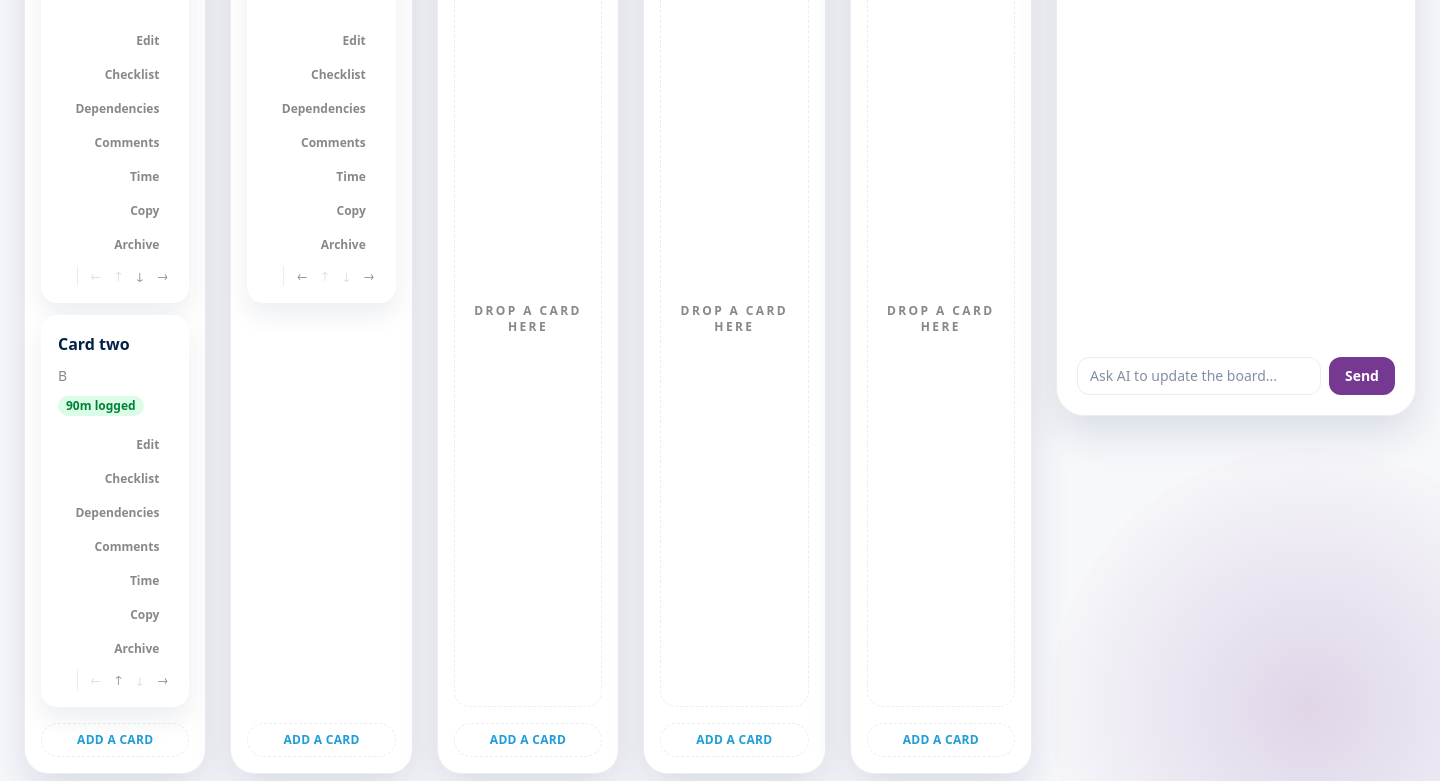
Scenario: KanbanBoard › shows error when chat request fails
The image size is (1440, 781).
(page scrolled)
Type "help" into the field named "AI chat message" at (1199, 376), box [1077,357,1321,395]
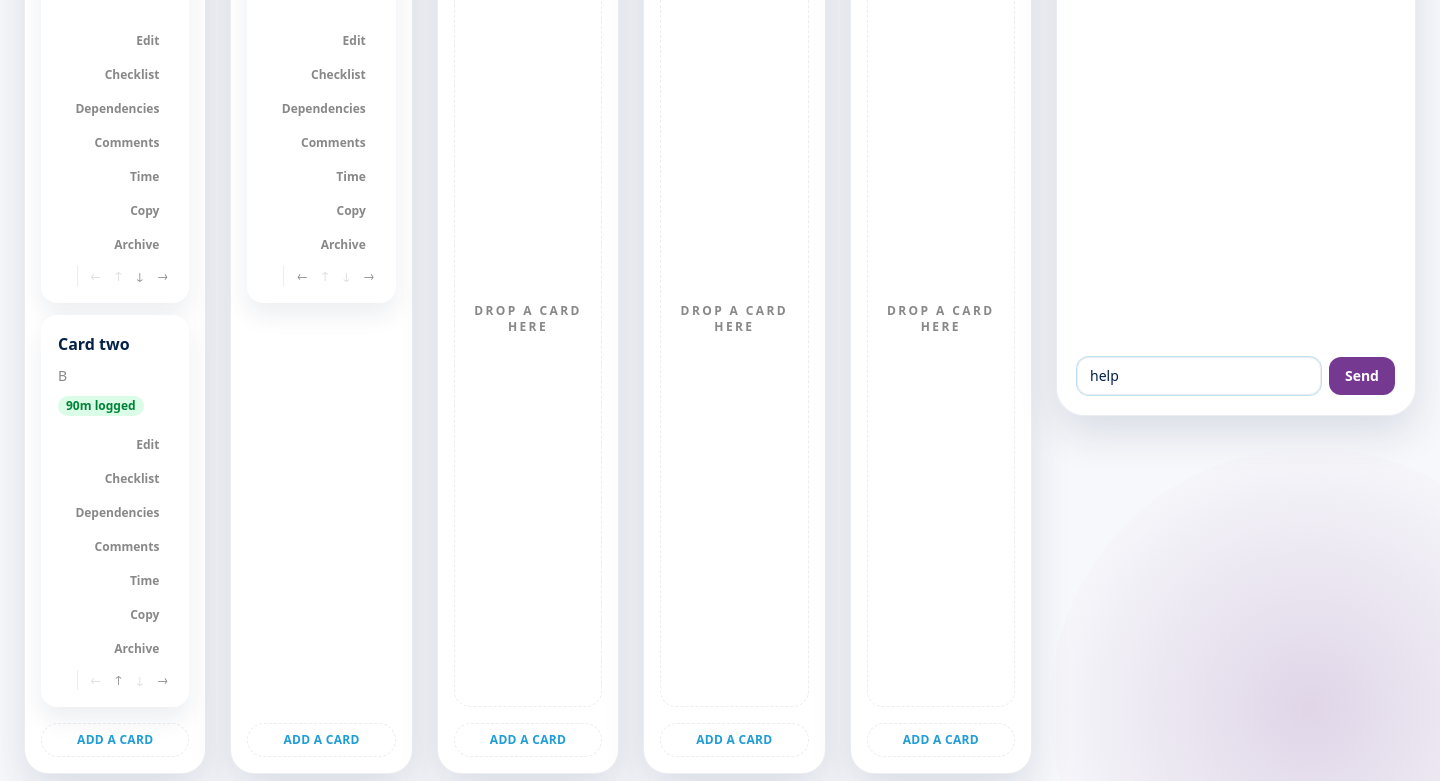
Click the button "Send" at (1362, 376), box [1329,357,1395,395]
(page scrolled)
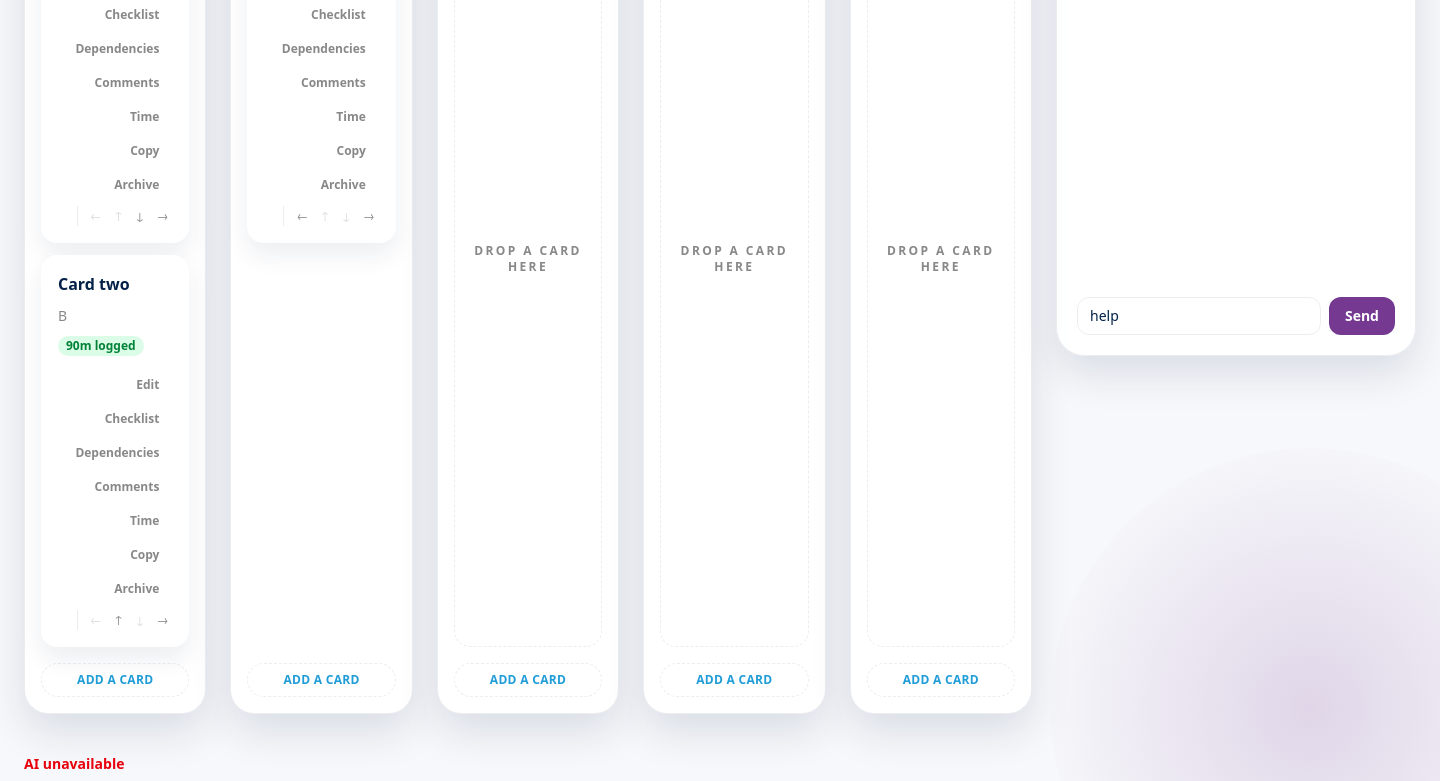
Now the message reads "AI unavailable", box [24,754,124,773]
